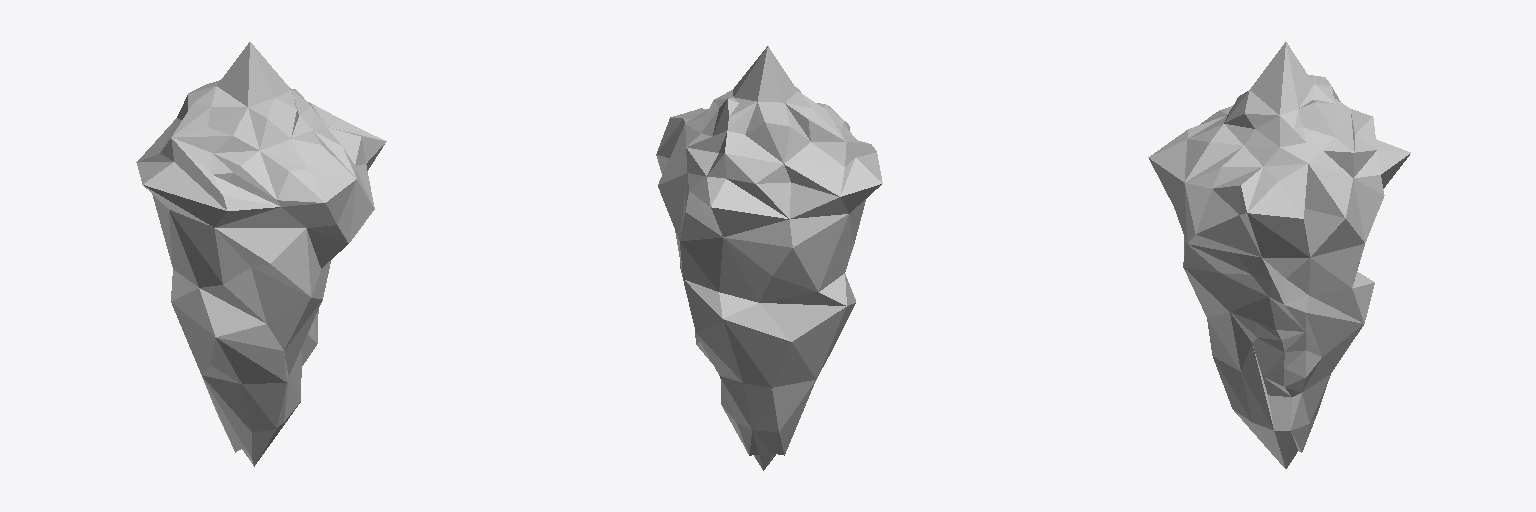
File: ice_pic.obj
The picture shows the model from 3 angles: view 1: azimuth 30°, elevation 25°; view 2: azimuth 150°, elevation 25°; view 3: azimuth 270°, elevation 25°; orthographic projection.
Visible parts, largest first — view 1: Iceber01; view 2: Iceber01; view 3: Iceber01.
Boxes of the visible parts, x1,y1,x2,y2 form: Iceber01: [136, 42, 386, 466]; Iceber01: [656, 46, 882, 470]; Iceber01: [1148, 42, 1410, 468].
Size of the model in its own units: 1.12 by 2 by 1.12.